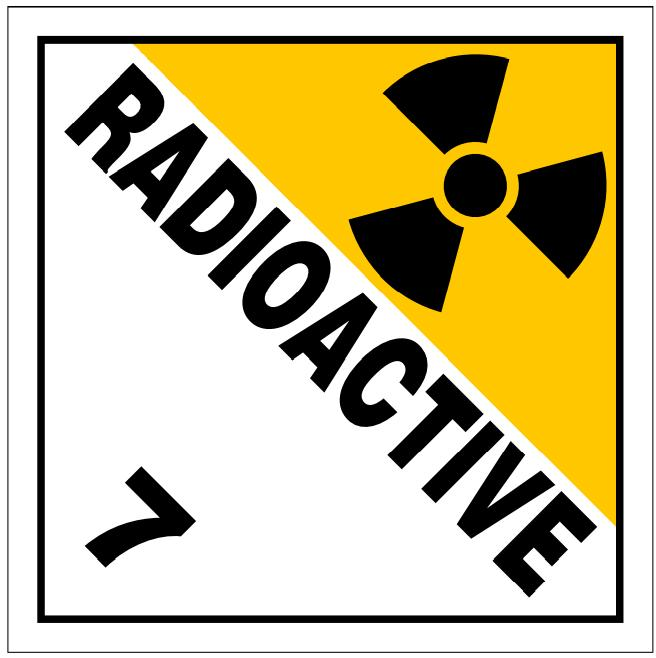radioactive: (1, 1, 656, 658)
